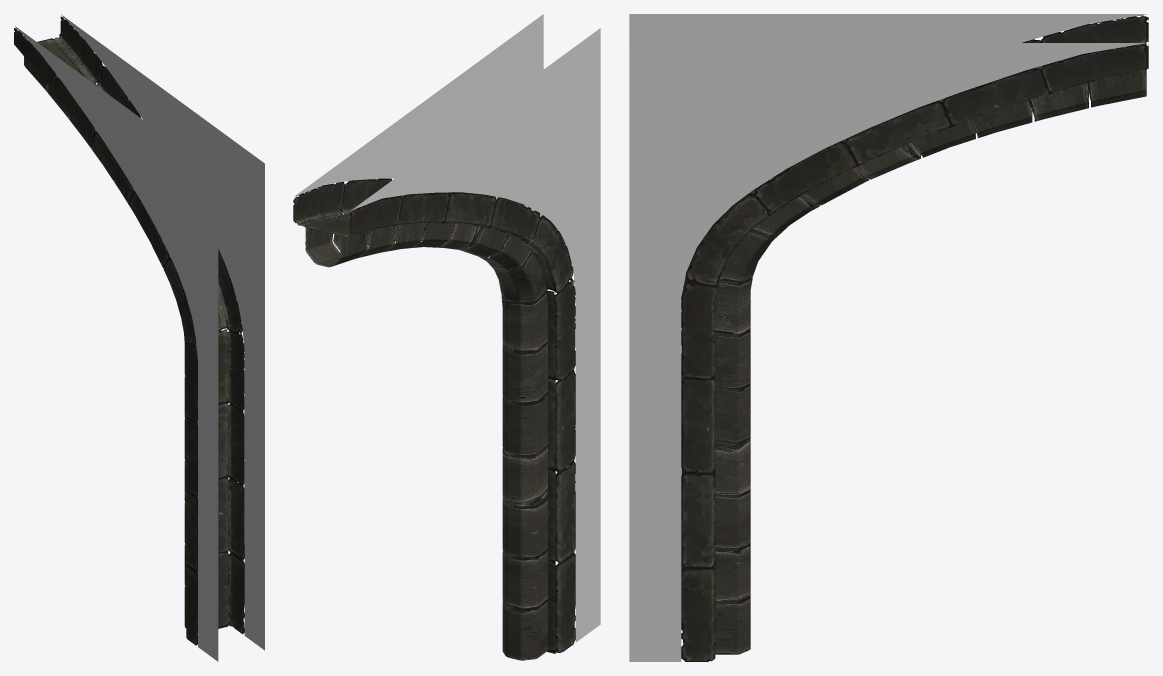
3 renders of one model, left to right at view 1: azimuth 30°, elevation 25°; view 2: azimuth 150°, elevation 25°; view 3: azimuth 270°, elevation 25°, orthographic. The views are drawn at different scales.
Visible parts, largest first — view 1: SM_Greathall_Wall_8x10_04_LOD0; view 2: SM_Greathall_Wall_8x10_04_LOD0; view 3: SM_Greathall_Wall_8x10_04_LOD0.
Part boxes in pixels (left/top/right/bottom): SM_Greathall_Wall_8x10_04_LOD0: left=14, top=14, right=264, bottom=661; SM_Greathall_Wall_8x10_04_LOD0: left=293, top=14, right=600, bottom=660; SM_Greathall_Wall_8x10_04_LOD0: left=629, top=14, right=1148, bottom=661.
Size of the model in its own units: 0.9998 by 10 by 7.6.
Materials: 3 (2 with a texture image).
